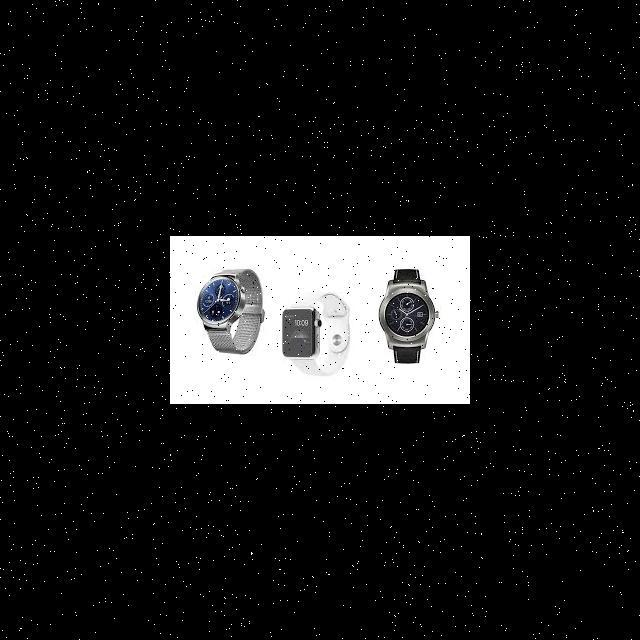watch: (185, 256, 268, 386), (370, 264, 447, 394), (282, 268, 355, 400)
